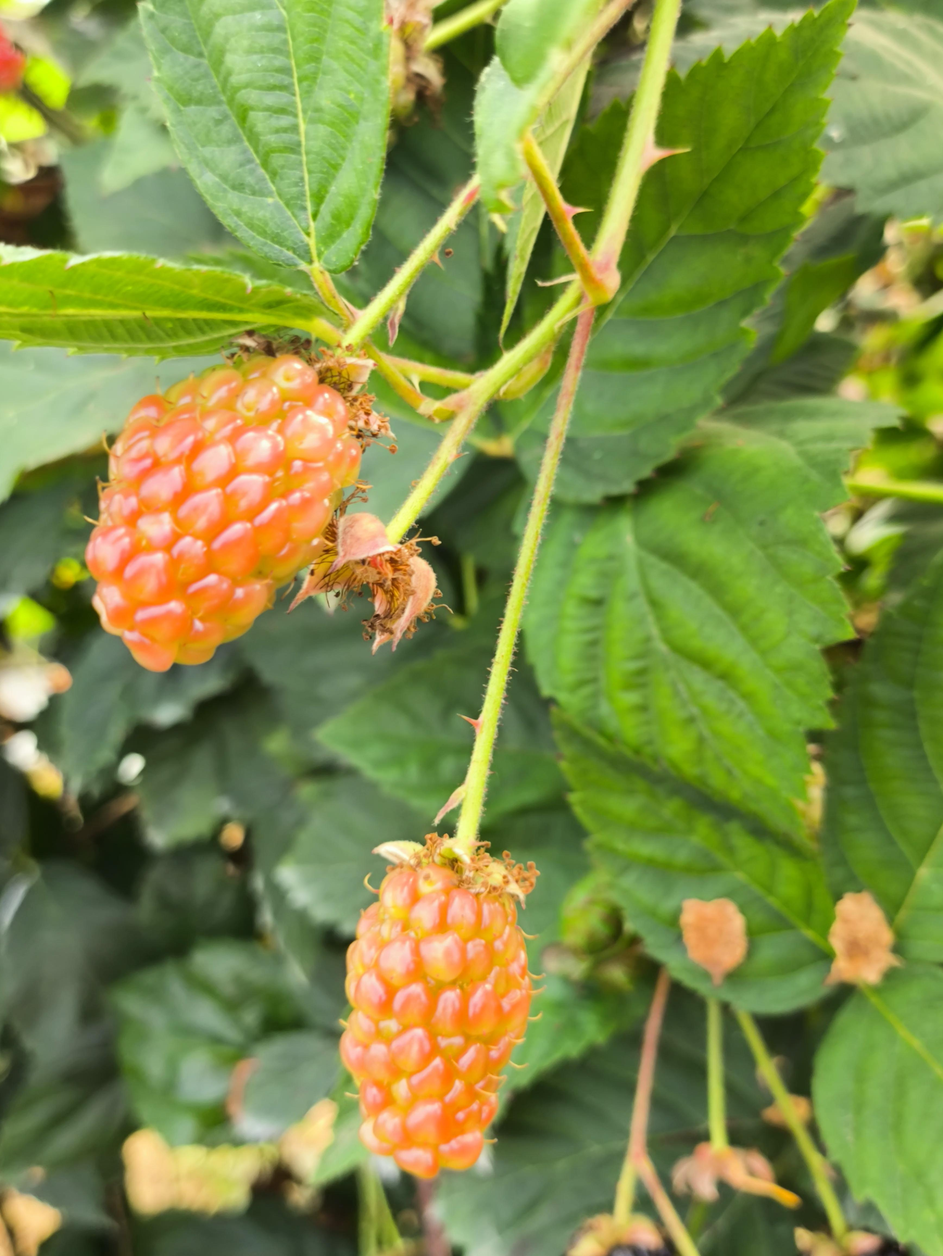naranja: (85, 354, 361, 671), (340, 834, 539, 1179)
